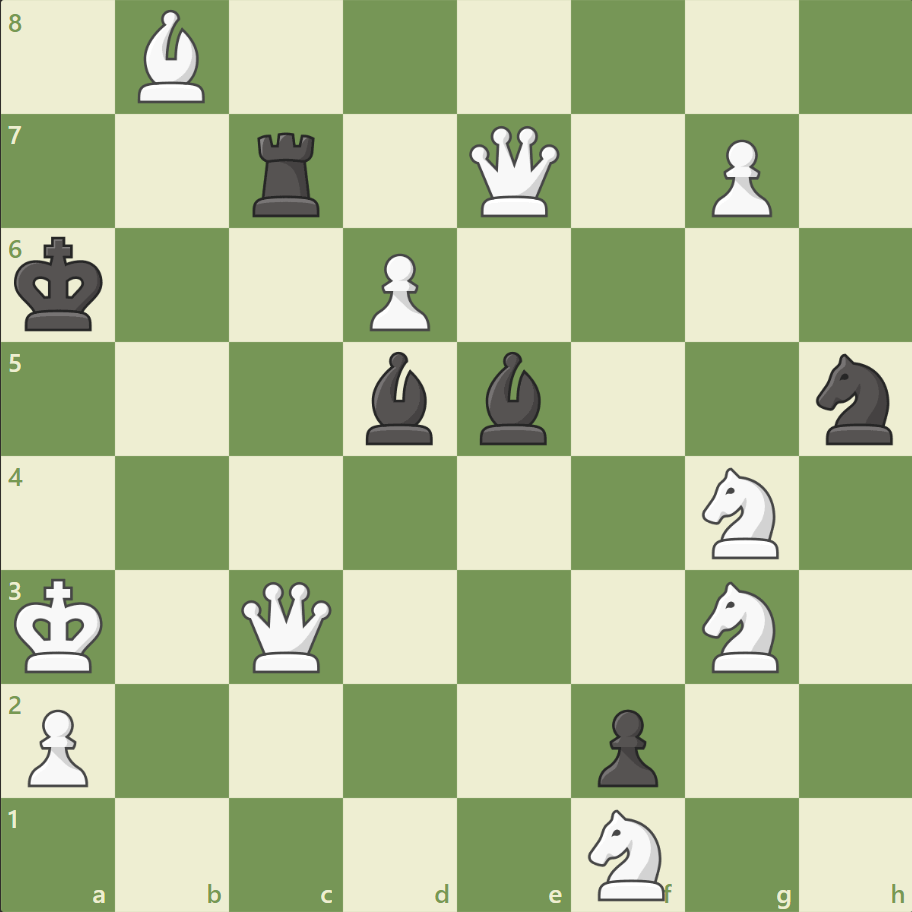B: (131, 6, 215, 109)
K: (11, 571, 111, 679)
N: (692, 461, 789, 564), (692, 575, 789, 677), (579, 802, 676, 904)
P: (701, 132, 776, 223), (20, 700, 95, 791), (361, 246, 435, 337)
Q: (464, 122, 563, 222), (237, 576, 336, 676)
b: (358, 347, 442, 449), (471, 347, 555, 449)
k: (11, 231, 111, 339)
n: (806, 348, 903, 450)
p: (588, 700, 662, 791)
r: (246, 125, 329, 222)
